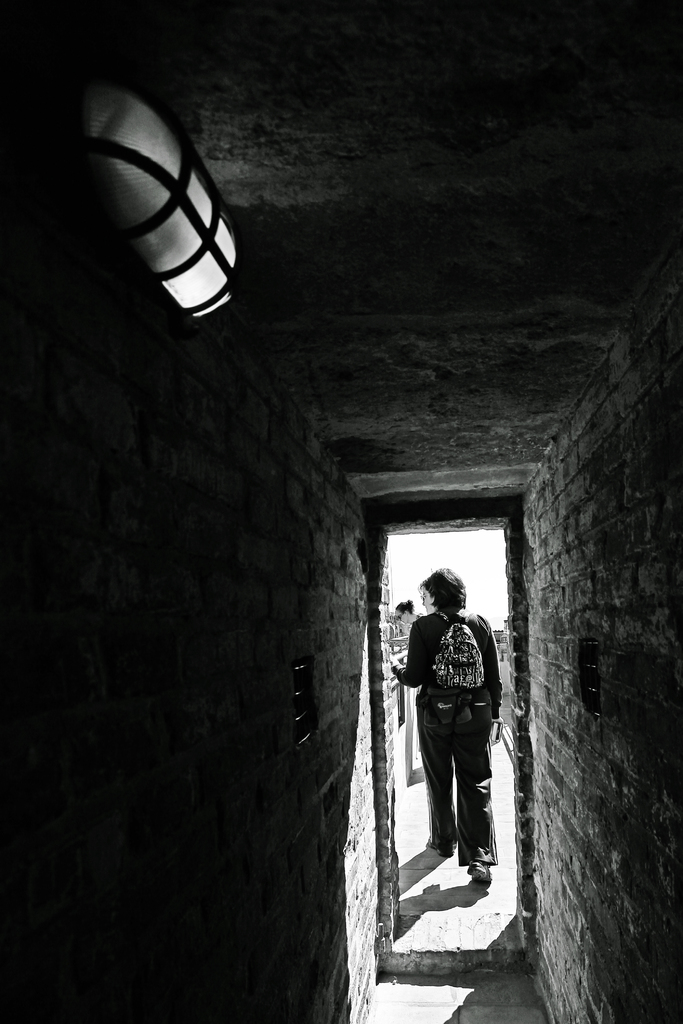Human_hand: (385, 642, 399, 668)
